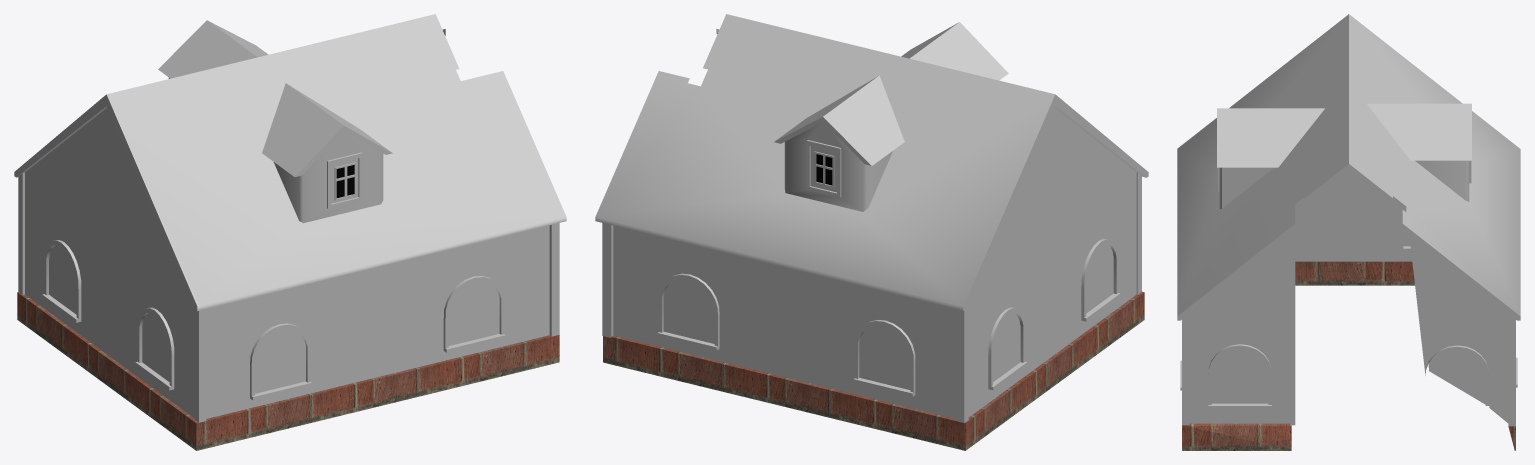
File: building.fbx
3 views of the same model, side by side, from view 1: azimuth 30°, elevation 25°; view 2: azimuth 150°, elevation 25°; view 3: azimuth 270°, elevation 25° (orthographic). The views are drawn at different scales.
Parts seen in each view (by area): view 1: Building; view 2: Building; view 3: Building.
Boxes of the visible parts, bbox=[...] form: Building: bbox=[14, 14, 566, 450]; Building: bbox=[595, 14, 1148, 450]; Building: bbox=[1177, 14, 1520, 450].
Bounding box in the file's own units: 1037 × 782 × 896.
